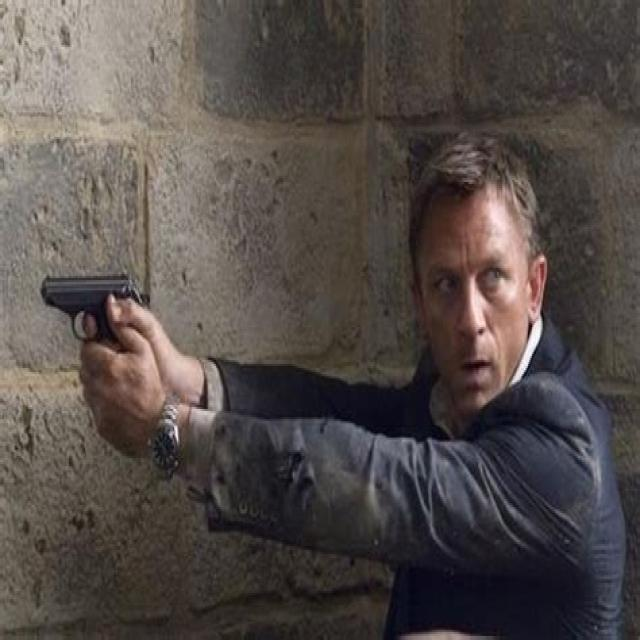weapons: (32, 252, 162, 400)
